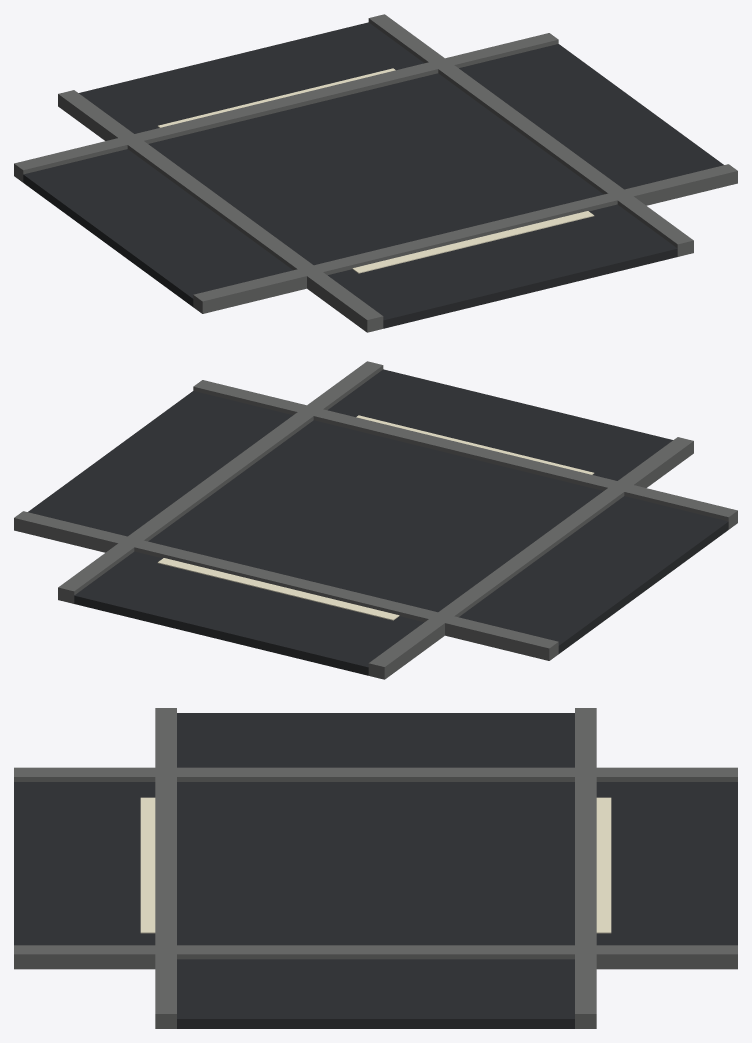
The model's file is road_highway_cross.glb.
3 views of the same model, one above another, from view 1: azimuth 30°, elevation 25°; view 2: azimuth 150°, elevation 25°; view 3: azimuth 270°, elevation 25° (orthographic). The views are drawn at different scales.
Parts seen in each view (by area): view 1: body; view 2: body; view 3: body.
Part boxes in pixels (x1=…): body: x1=14, y1=14, x2=737, y2=332; body: x1=14, y1=361, x2=737, y2=679; body: x1=14, y1=708, x2=737, y2=1028.
Size of what is drawn, in the model's own units: 8 by 0.18 by 8.
